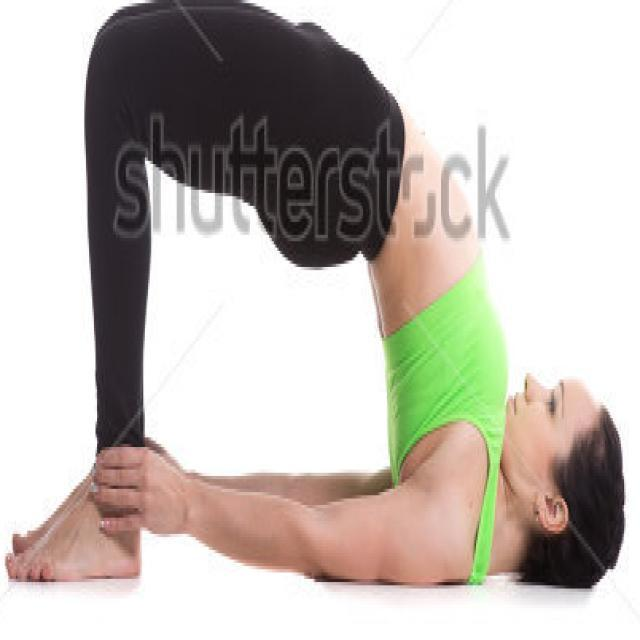yoga-pose bridge: (11, 8, 626, 604)
